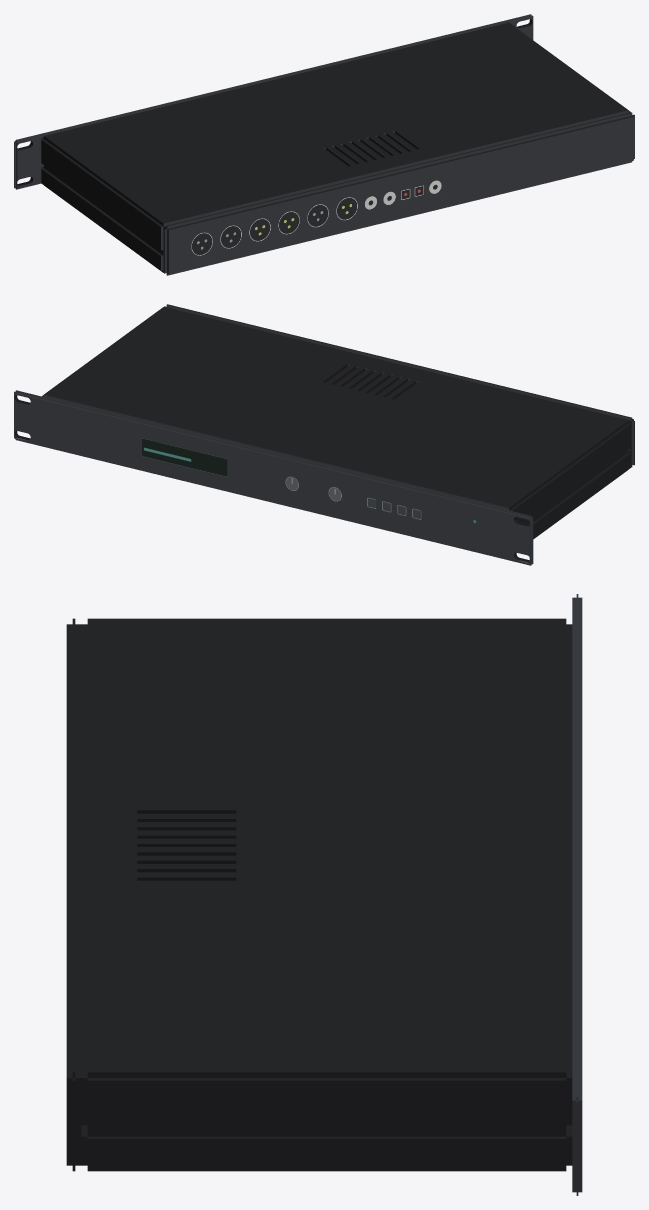
The model's file is tc-electronic-m3000.glb.
3 renders of one model, top to bottom at view 1: azimuth 30°, elevation 25°; view 2: azimuth 150°, elevation 25°; view 3: azimuth 270°, elevation 25°, orthographic. The views are drawn at different scales.
Visible parts, largest first — view 1: tc-electronic-m3000-body; view 2: tc-electronic-m3000-body; view 3: tc-electronic-m3000-body.
Part boxes in pixels (<box>): tc-electronic-m3000-body: <box>14,14,634,275</box>; tc-electronic-m3000-body: <box>14,304,634,565</box>; tc-electronic-m3000-body: <box>66,594,582,1195</box>.
Bounding box in the file's own units: 0.483 × 0.044 × 0.208.
1 material, 1 textured.
